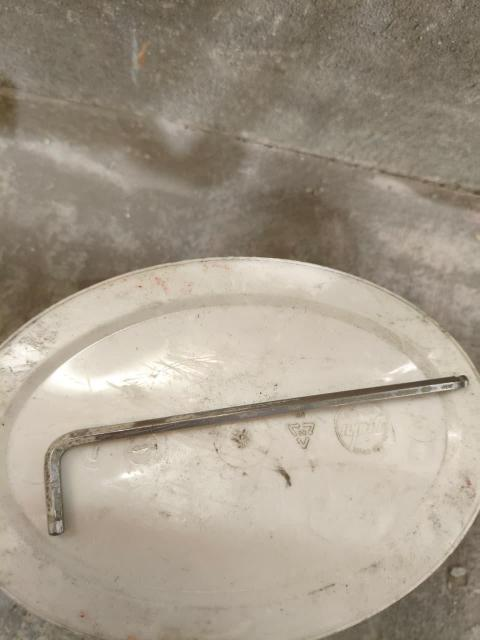Metal: (37, 370, 473, 537)
